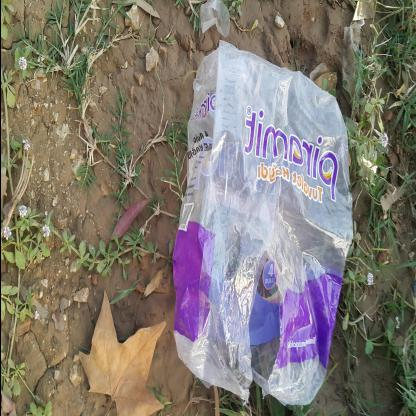plastik: (171, 36, 354, 408)
